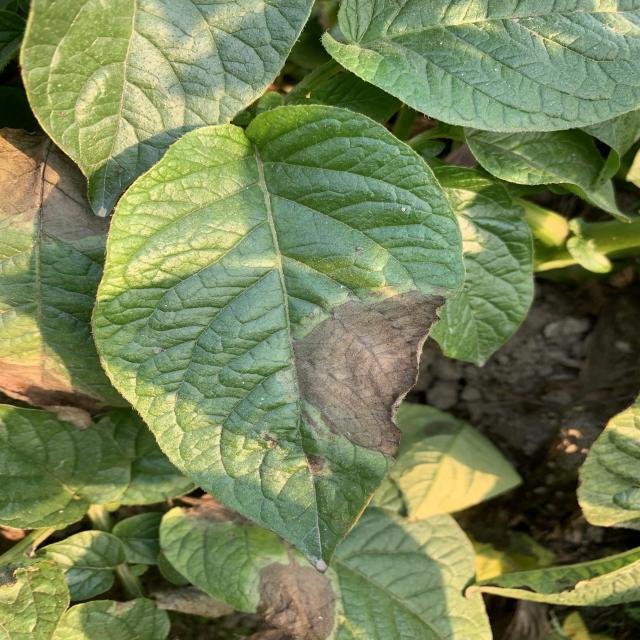lateblight: (293, 291, 445, 455), (0, 129, 108, 255), (0, 338, 110, 430), (258, 549, 337, 640)
